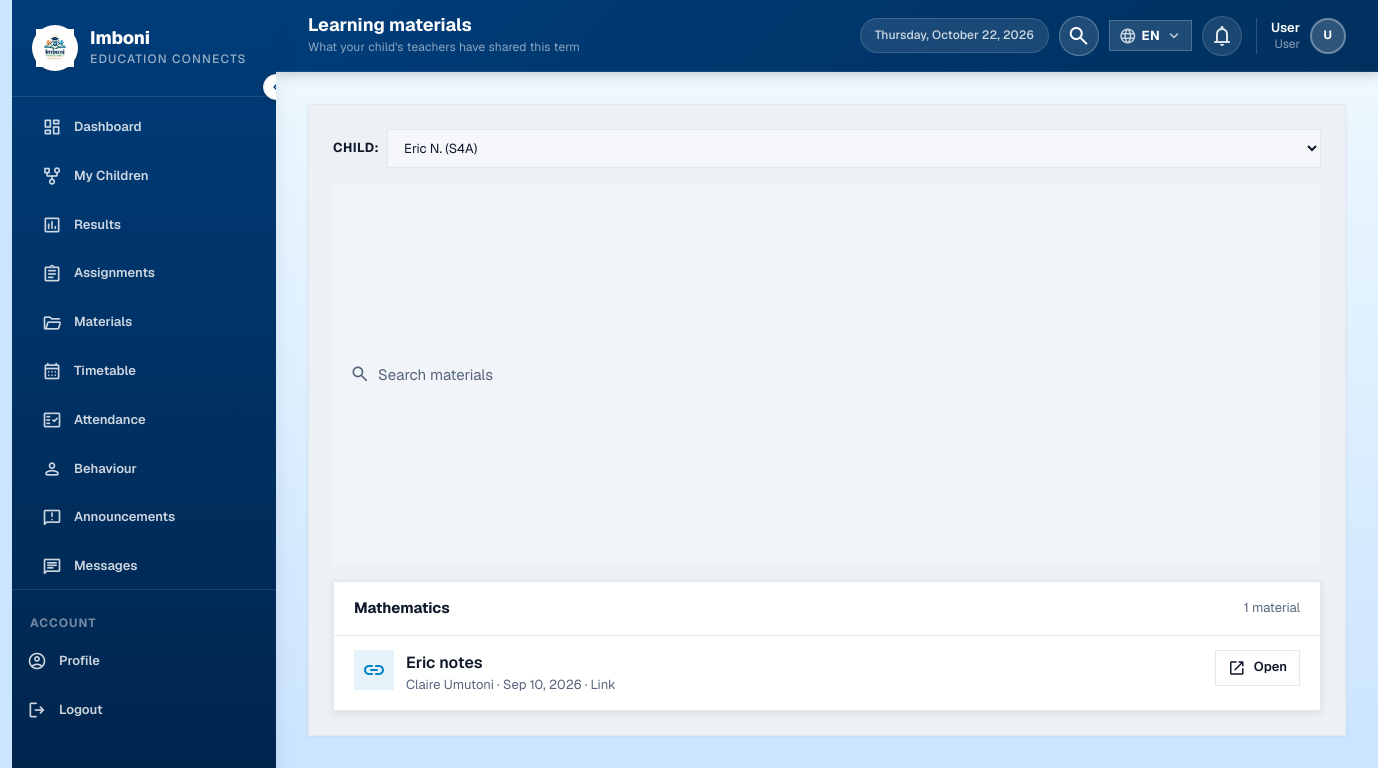
Test: ParentMaterials › switching child loads that child's materials
Expected: the link "Eric notes" is shown, [406, 652, 482, 673]
Select "Alice M. (S5B)" in the dropdown labelled "Child:": coordinates (854, 148) [387, 129, 1321, 168]
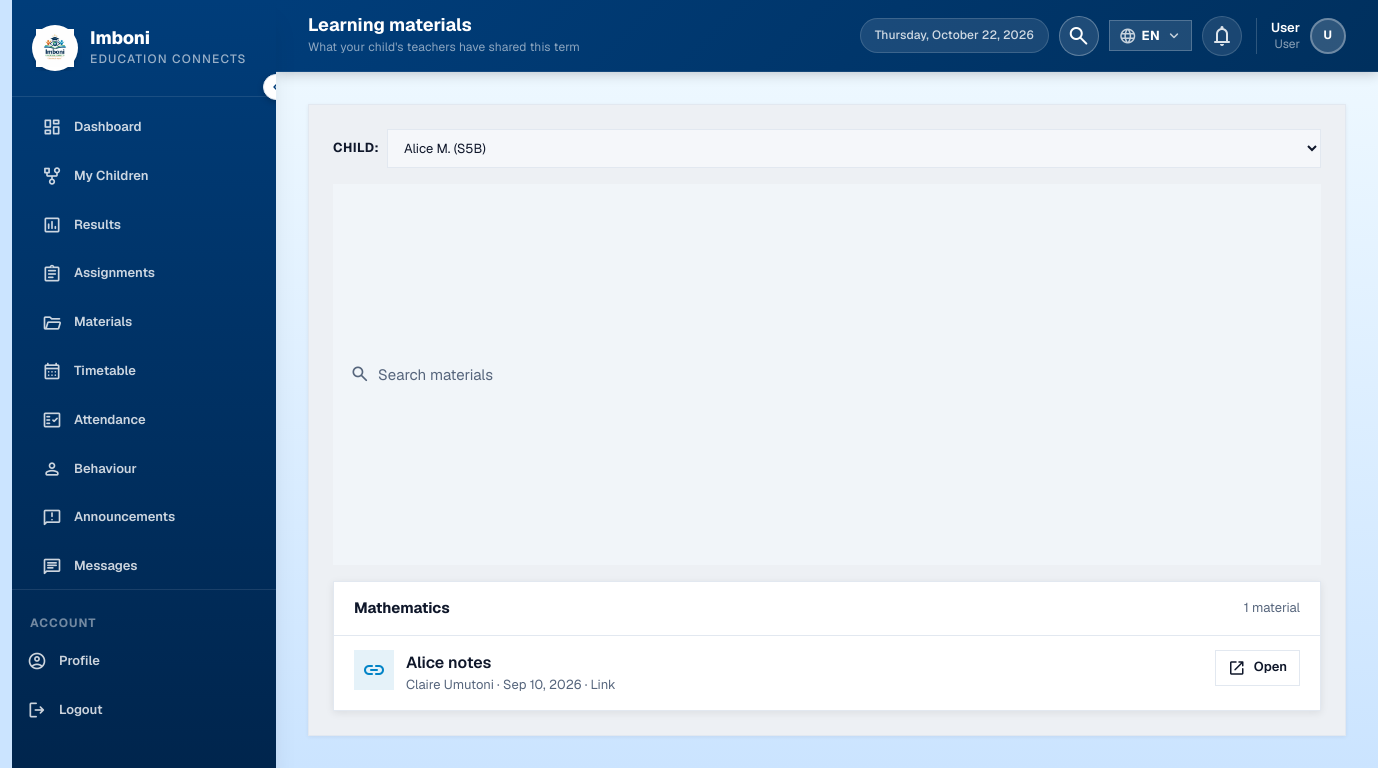
Expected: the link "Alice notes" is shown, [406, 652, 492, 673]
